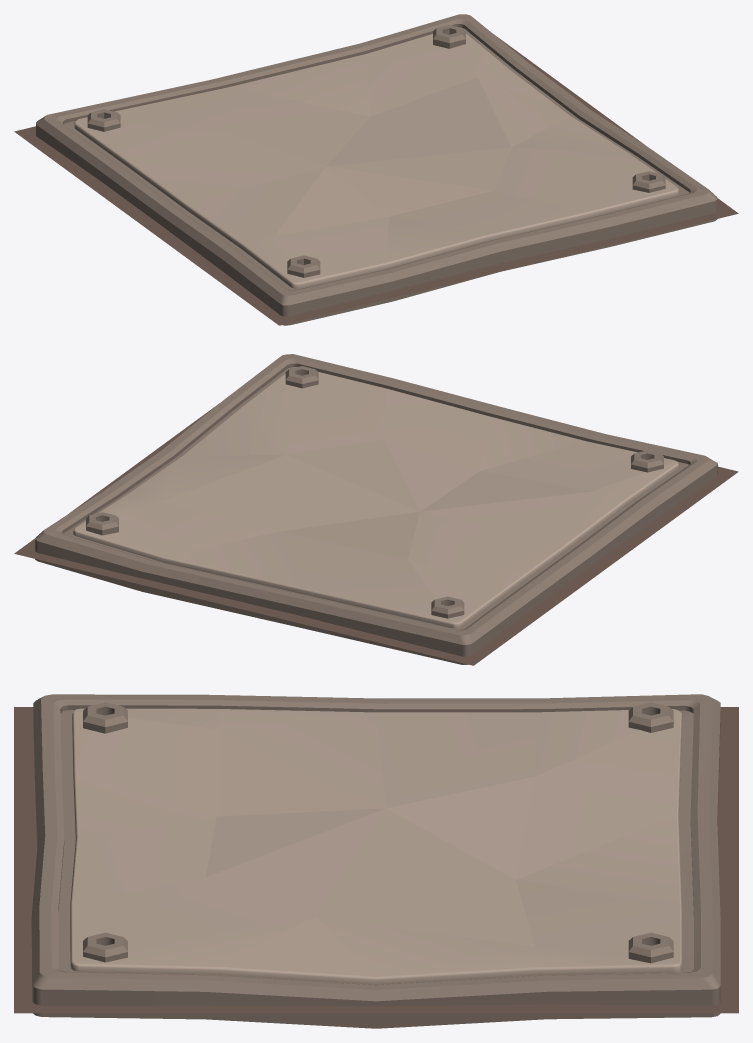
Rendered from baldosa.fbx.
3 renders of one model, top to bottom at view 1: azimuth 30°, elevation 25°; view 2: azimuth 150°, elevation 25°; view 3: azimuth 270°, elevation 25°, orthographic. The views are drawn at different scales.
Visible parts, largest first — view 1: metal, base, tornillo_1, tornillo_3, tornillo_2, tornillo_4; view 2: metal, base, tornillo_1, tornillo_2, tornillo_4, tornillo_3; view 3: metal, base, tornillo_3, tornillo_1, tornillo_2, tornillo_4.
Part boxes in pixels (left/top/right/bottom): metal: left=36, top=14, right=717, bottom=325; base: left=14, top=34, right=738, bottom=325; tornillo_1: left=433, top=25, right=465, bottom=48; tornillo_3: left=287, top=255, right=320, bottom=277; tornillo_2: left=87, top=109, right=120, bottom=131; tornillo_4: left=632, top=171, right=665, bottom=192; metal: left=35, top=354, right=717, bottom=664; base: left=14, top=403, right=738, bottom=665; tornillo_1: left=86, top=512, right=118, bottom=535; tornillo_2: left=431, top=596, right=464, bottom=618; tornillo_4: left=285, top=366, right=318, bottom=388; tornillo_3: left=631, top=450, right=663, bottom=472; metal: left=31, top=694, right=720, bottom=1028; base: left=14, top=707, right=738, bottom=1013; tornillo_3: left=83, top=702, right=127, bottom=733; tornillo_1: left=628, top=932, right=673, bottom=963; tornillo_2: left=628, top=702, right=673, bottom=732; tornillo_4: left=83, top=932, right=127, bottom=962.
Size of the model in its own units: 0.01 by 0.000862 by 0.01.
